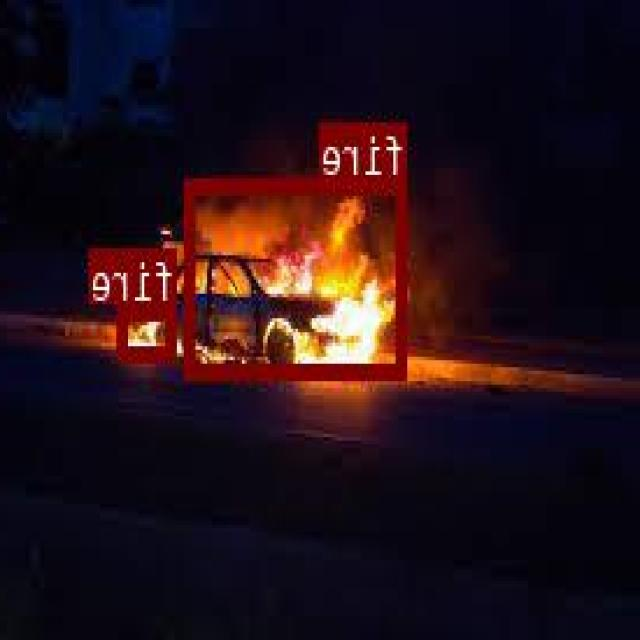fire: (187, 176, 409, 375), (120, 302, 178, 359)
